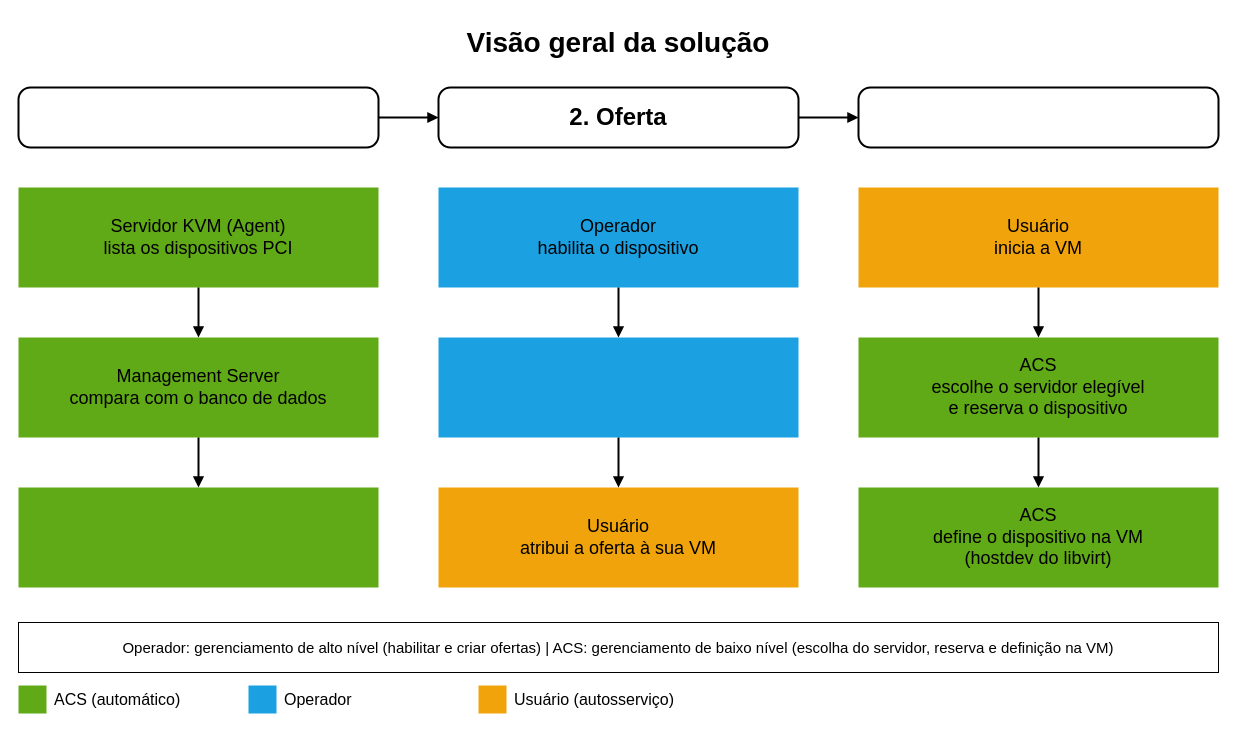
Image size: 1236x734. Some labels were removed from this diagram. The centre of each missing label's shape, as x and y in pixels:
"1. Descoberta" goes at [198,117].
"3. Provisionamento" goes at [1038,117].
"Dispositivos registrados sempre como Disabled" goes at [198,537].
"Operador cria a oferta de dispositivo (tag + quantidade)" goes at [618,387].
